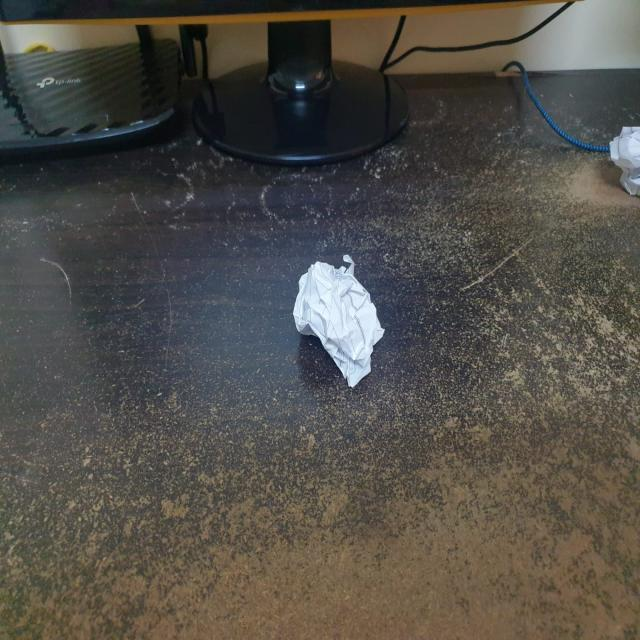Paper: (295, 260, 383, 394)
